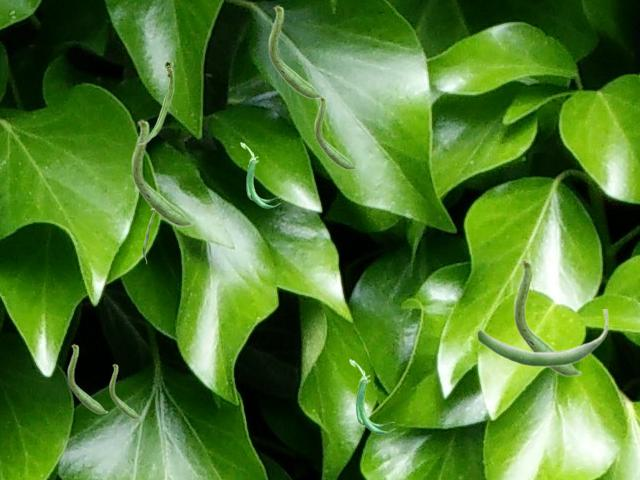french_bean: (513, 258, 581, 376), (476, 309, 608, 367), (131, 118, 193, 226), (268, 4, 322, 98), (349, 359, 394, 433), (314, 95, 356, 169), (138, 60, 173, 144), (67, 343, 107, 413), (240, 142, 279, 207), (109, 363, 140, 418), (142, 208, 154, 263)
